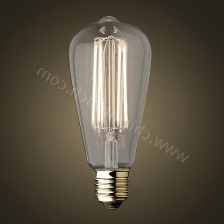light_bulb: (64, 11, 158, 216)
